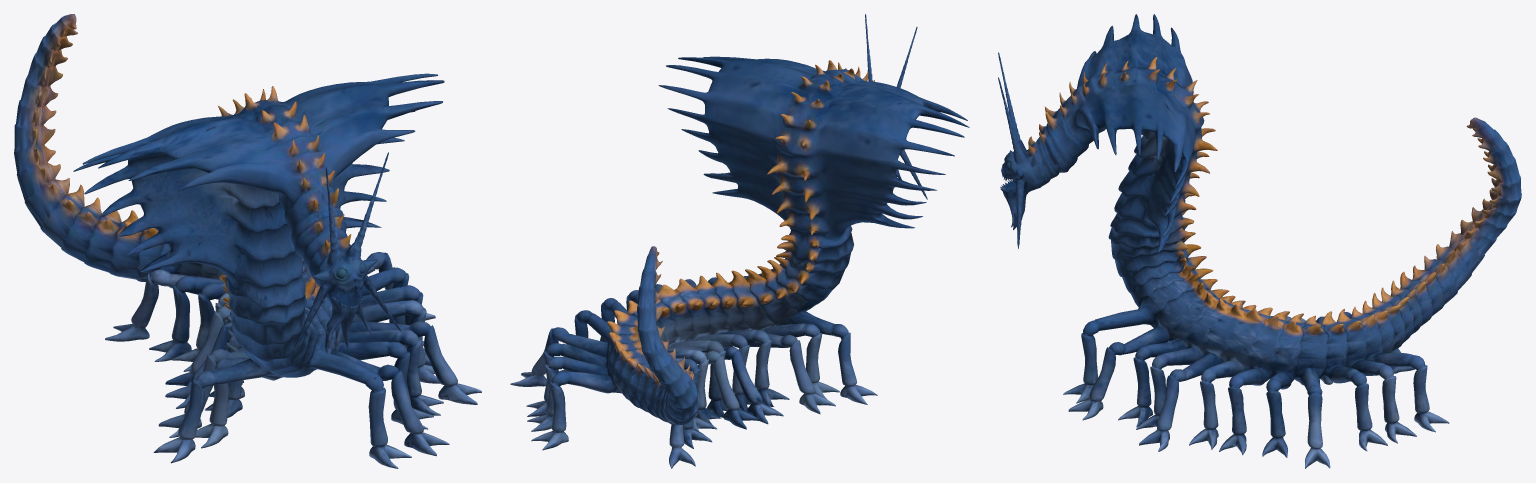
File: MZ4250 - Remorhaz.glb
3 renders of one model, left to right at view 1: azimuth 30°, elevation 25°; view 2: azimuth 150°, elevation 25°; view 3: azimuth 270°, elevation 25°, orthographic. The views are drawn at different scales.
Parts seen in each view (by area): view 1: default; view 2: default; view 3: default.
Part boxes in pixels (left/top/right/bottom): default: left=14, top=14, right=481, bottom=468; default: left=510, top=14, right=969, bottom=468; default: left=998, top=14, right=1521, bottom=468.
Size of the model in its own units: 1.51 by 1.16 by 1.85.
1 material, 1 textured.
